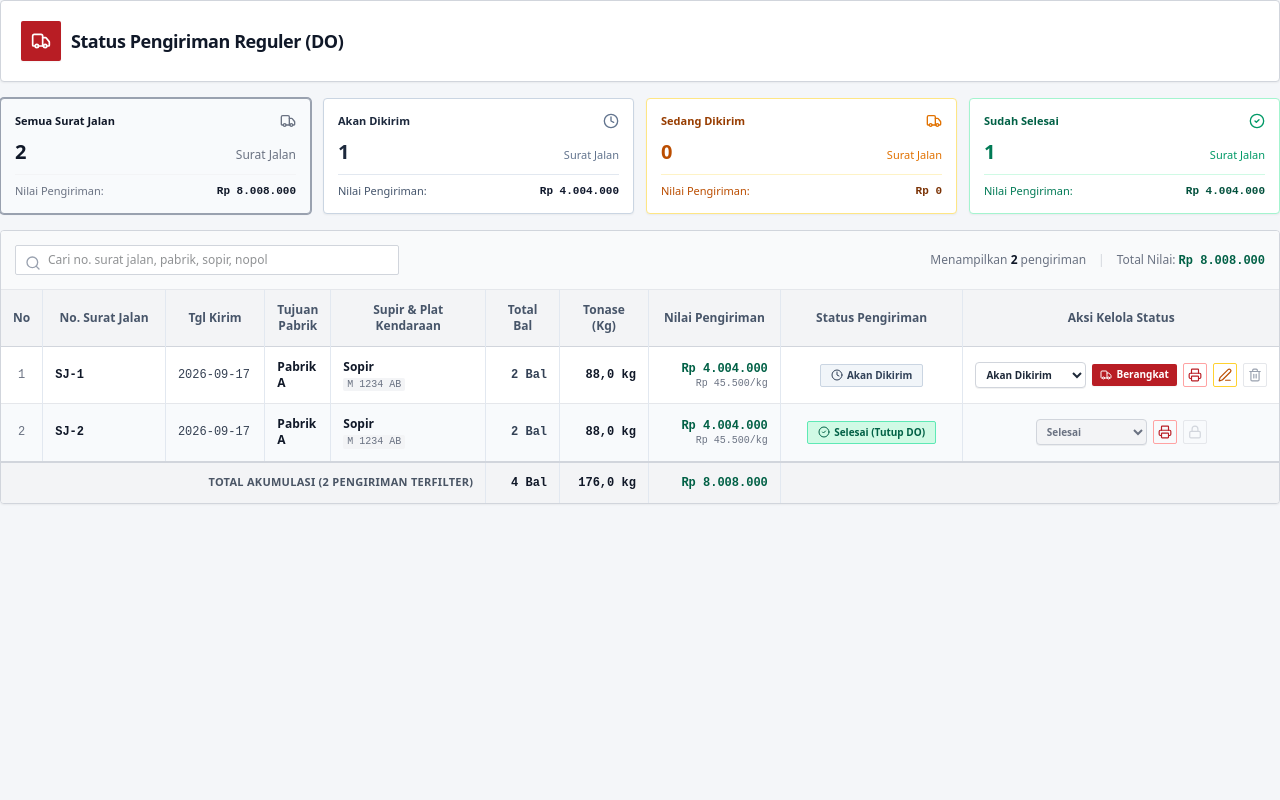
Test: Status Pengiriman Reguler (DO) › Surat Jalan belum Selesai boleh diedit dan dihapus; yang Selesai terkunci
Click the button titled "Edit Surat Jalan" at (1225, 375), box [1213, 363, 1237, 387]
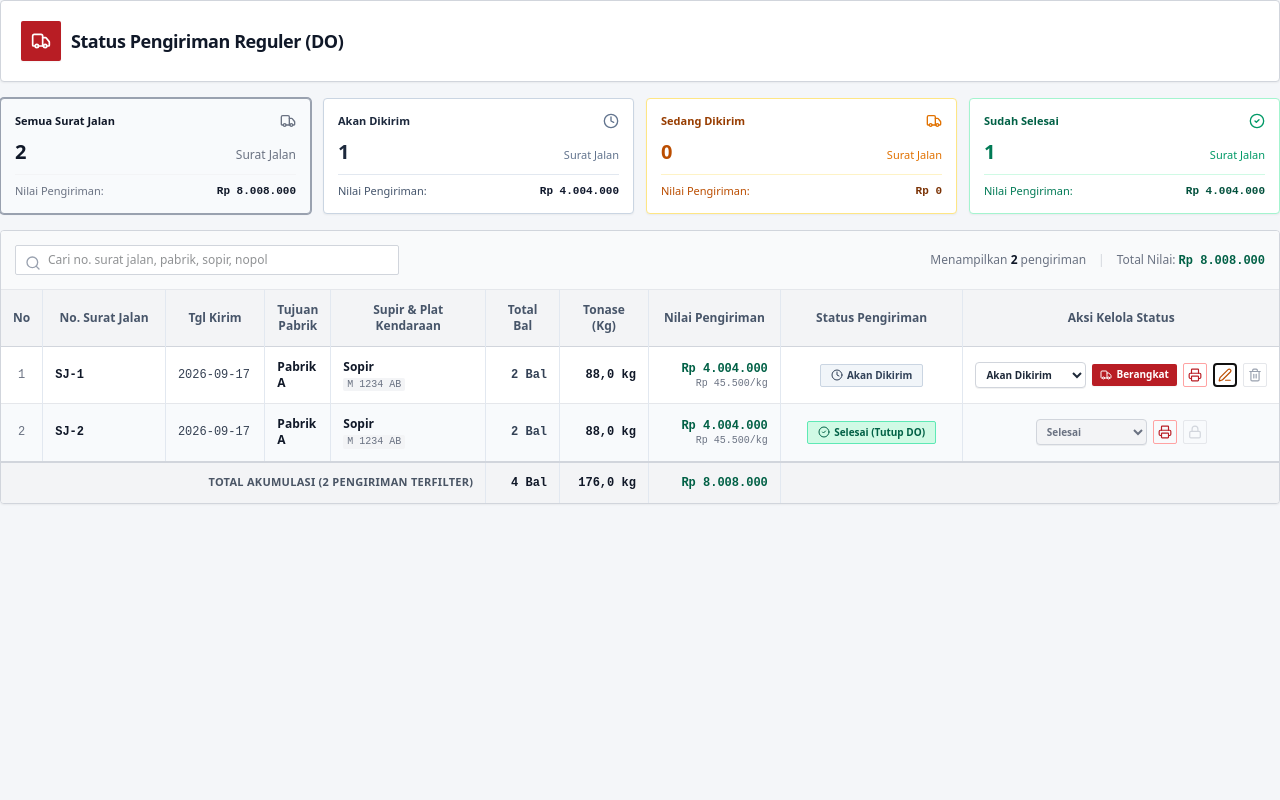
Click the button titled "Batalkan / hapus Surat Jalan" at (1255, 375), box [1243, 363, 1267, 387]
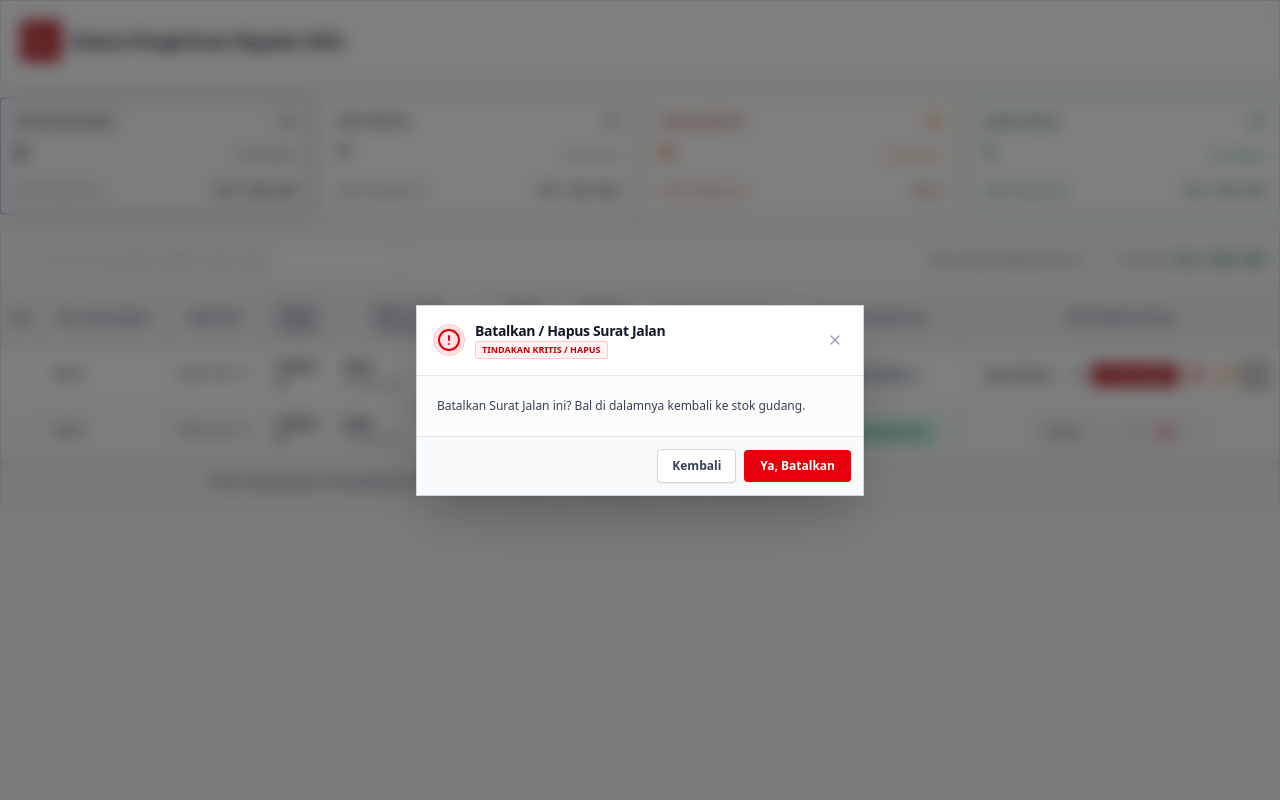
Click the button "Ya, Batalkan" at (798, 466), box [744, 450, 851, 482]
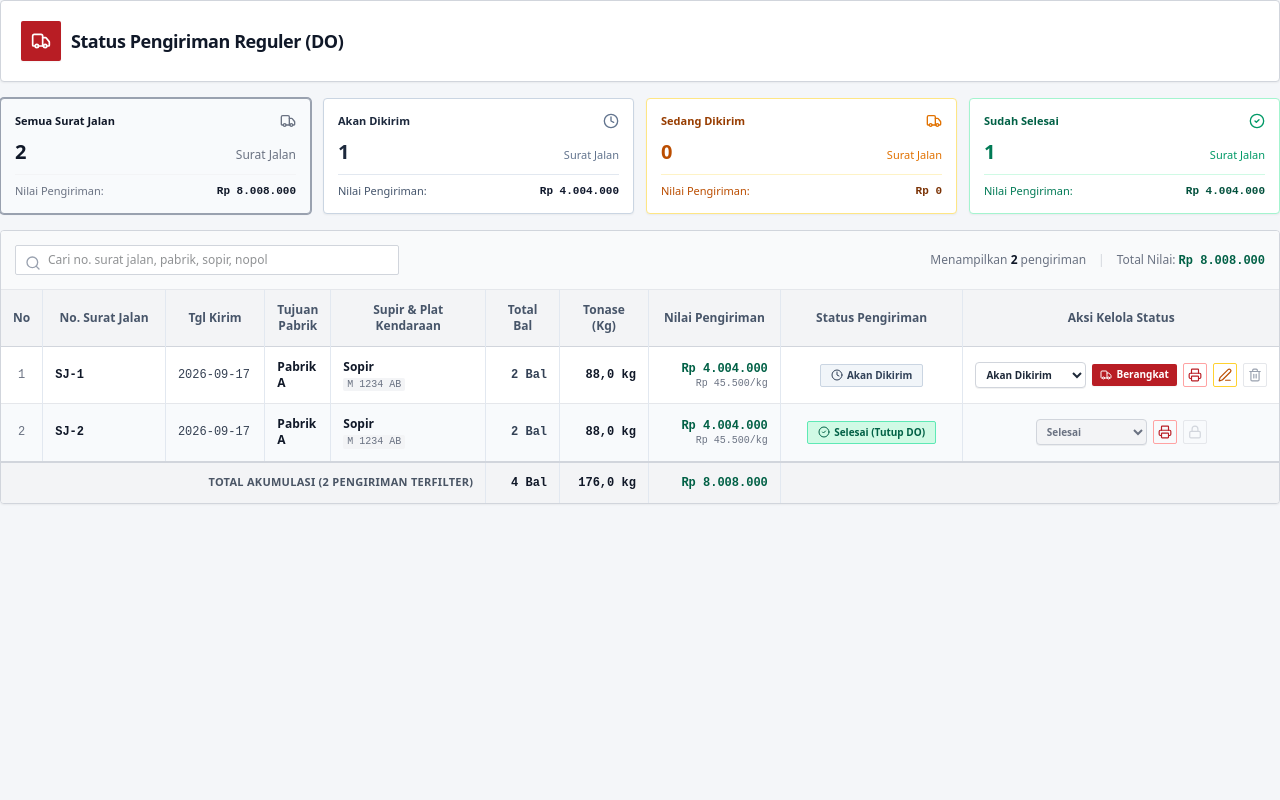
Check: the element titled "sudah berstatus Selesai" is shown, box [1183, 420, 1207, 444]
Check: the heading titled "Batalkan / hapus Surat Jalan" is gone
